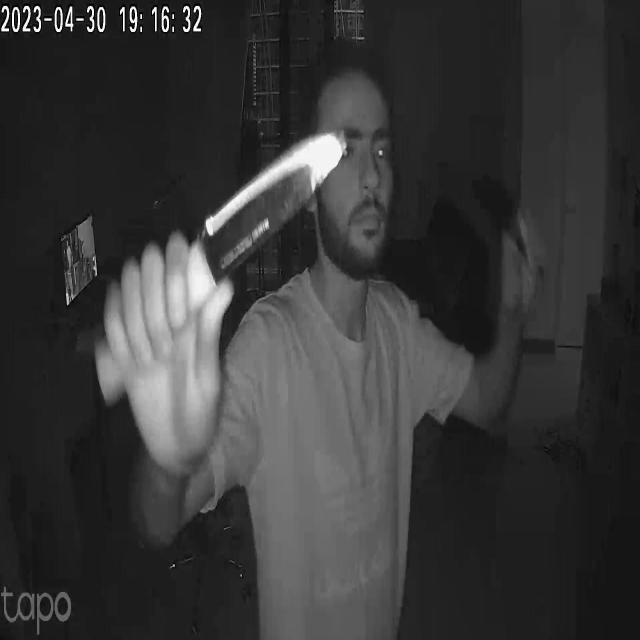Knife: (91, 131, 343, 405)
